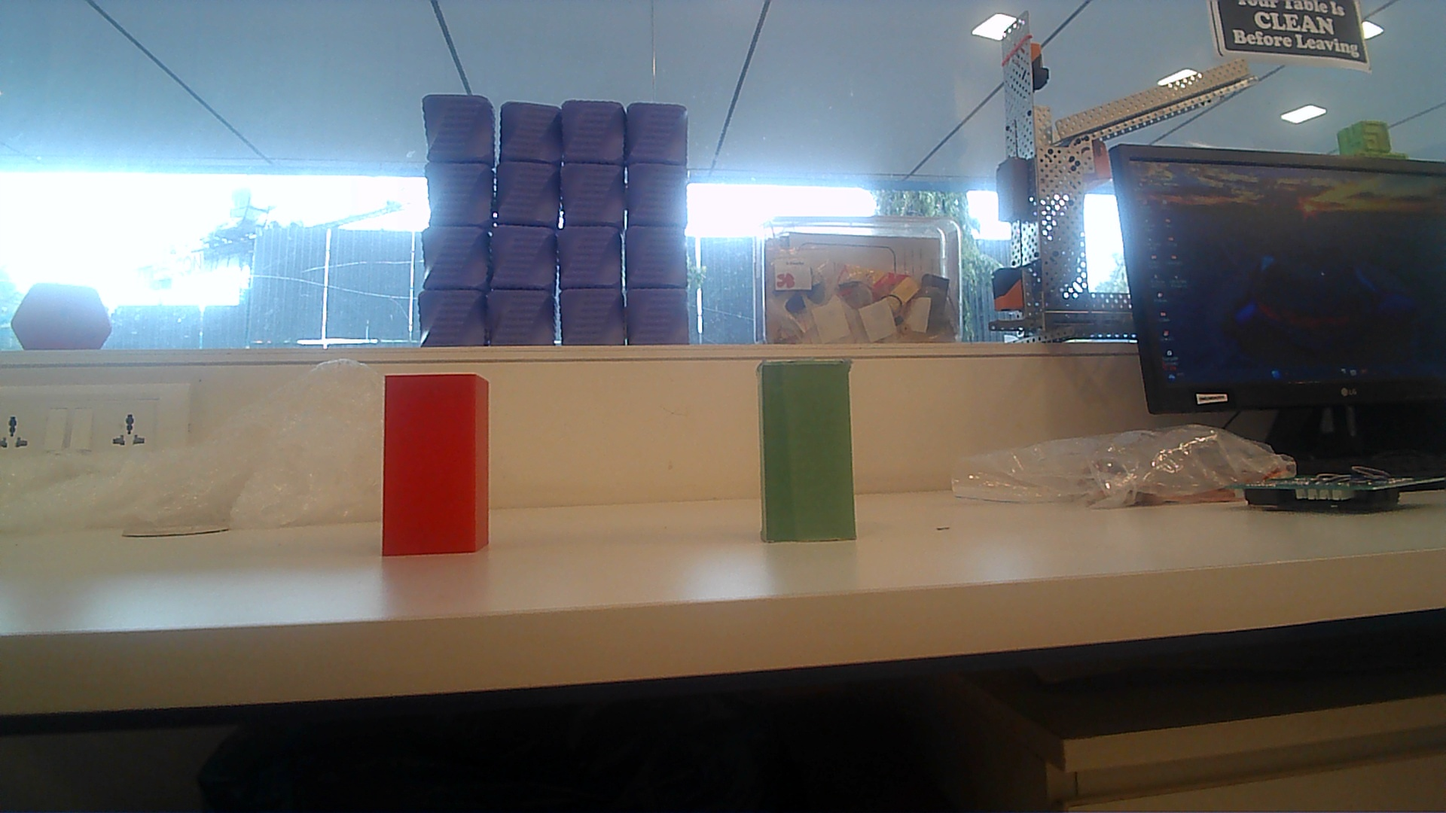red: (374, 366, 496, 562)
